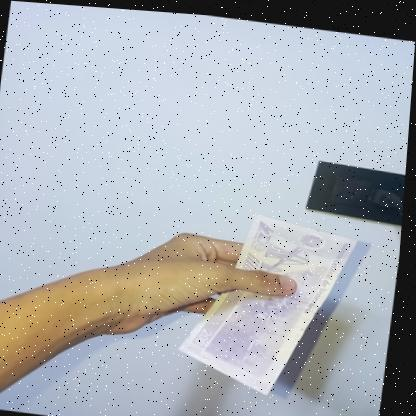two_hundred-back-vef: (178, 202, 363, 399)
